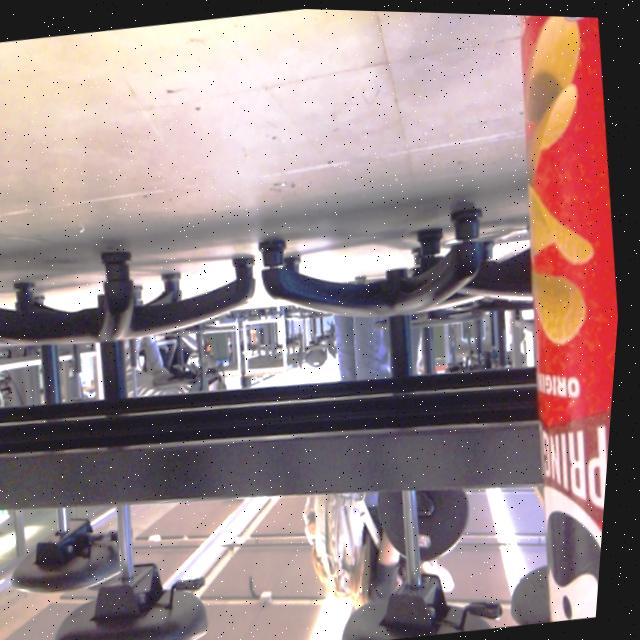redpringles: (411, 10, 640, 627)
